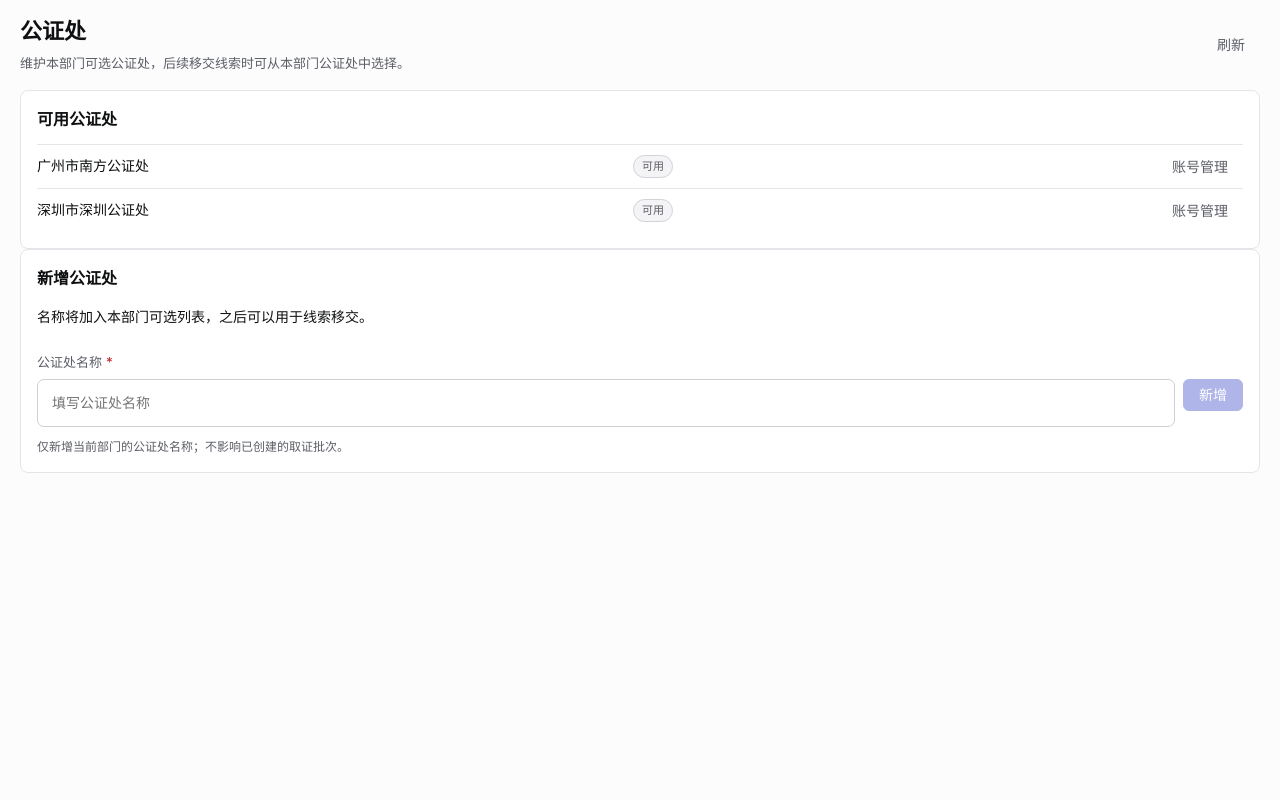
Test: NotaryOfficesPage › creates a bound account and lets administrators disable it
Click the button with test id "office-accounts-office-1" at [1200, 167], box x1=1157 y1=151 x2=1243 y2=183
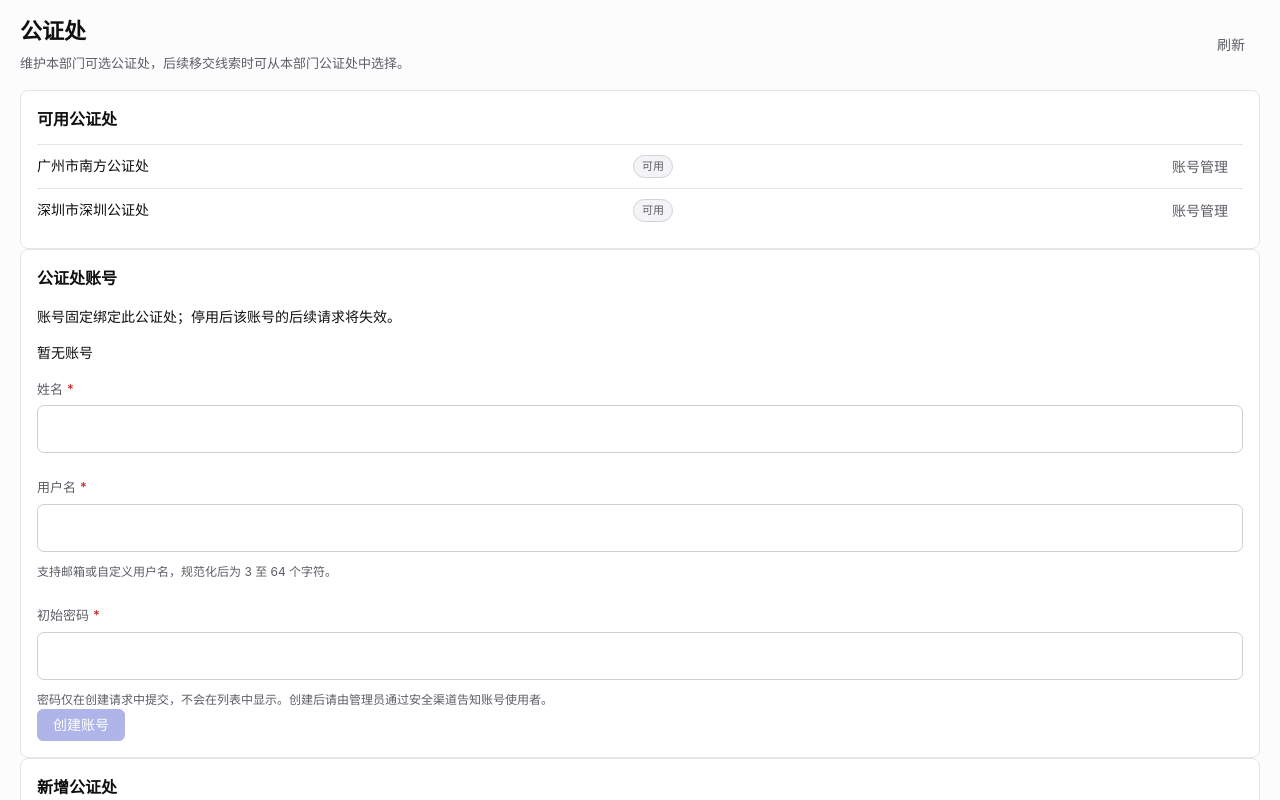
Type "办理员" into the field with test id "notary-account-display-name" at [640, 429], box x1=37 y1=405 x2=1243 y2=453
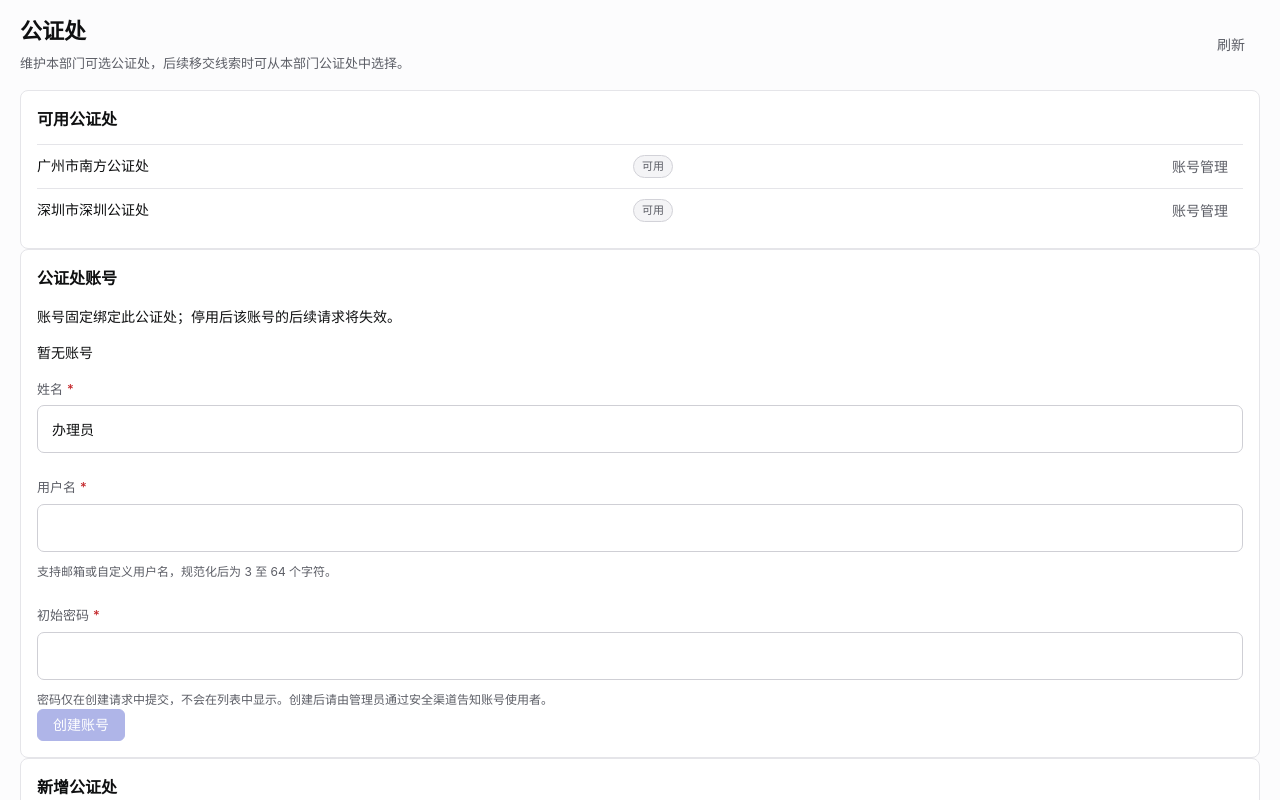
Type "office.user" into the field with test id "notary-account-username" at [640, 528], box x1=37 y1=504 x2=1243 y2=552
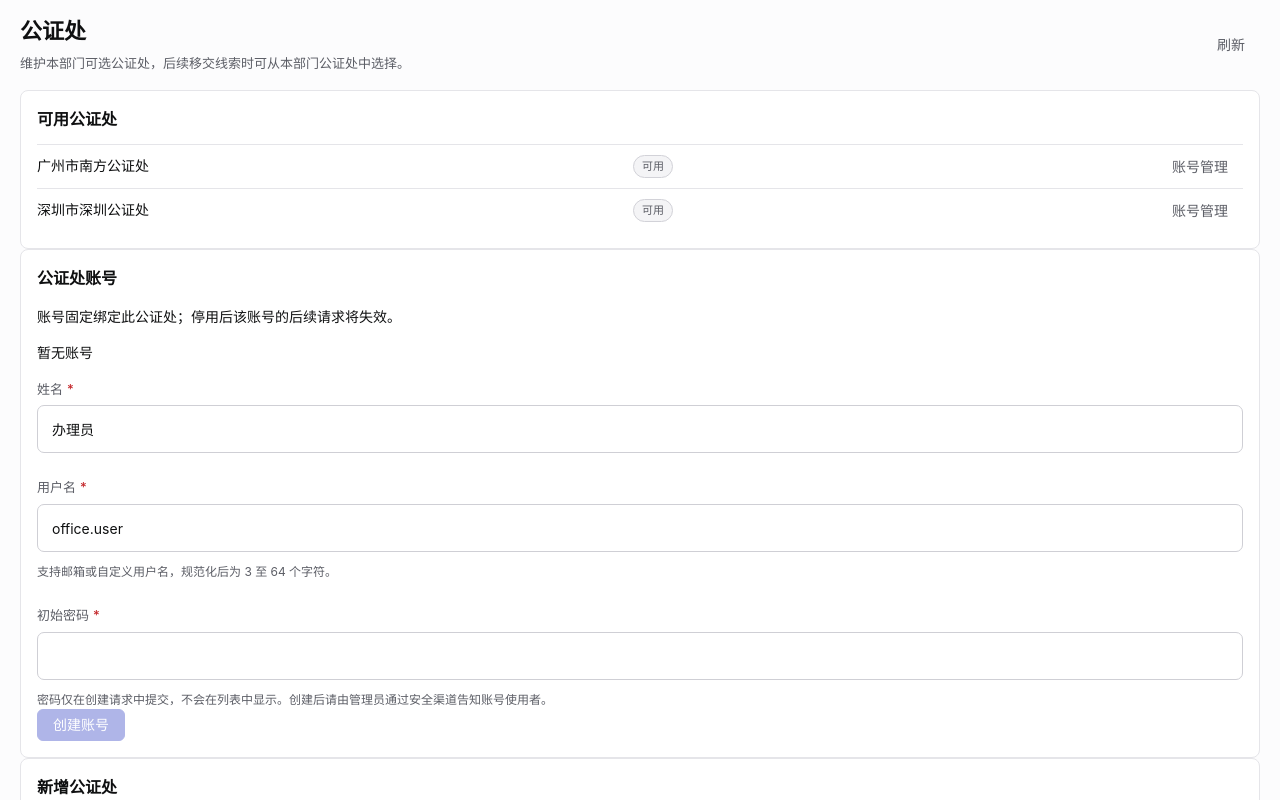
Type "correct horse battery staple" into the password field with test id "notary-account-password" at [640, 656], box x1=37 y1=632 x2=1243 y2=680
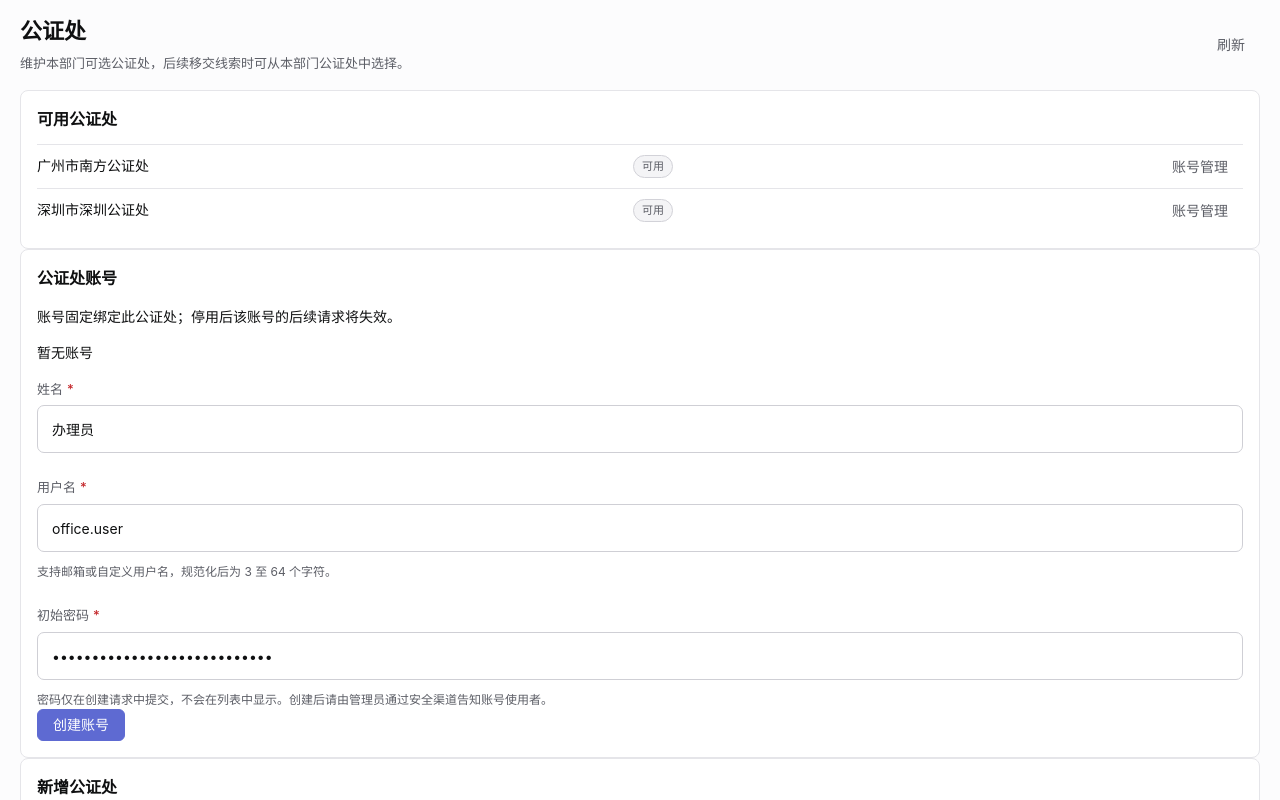
Submit the form with test id "notary-office-account-create", box x1=37 y1=379 x2=1243 y2=741
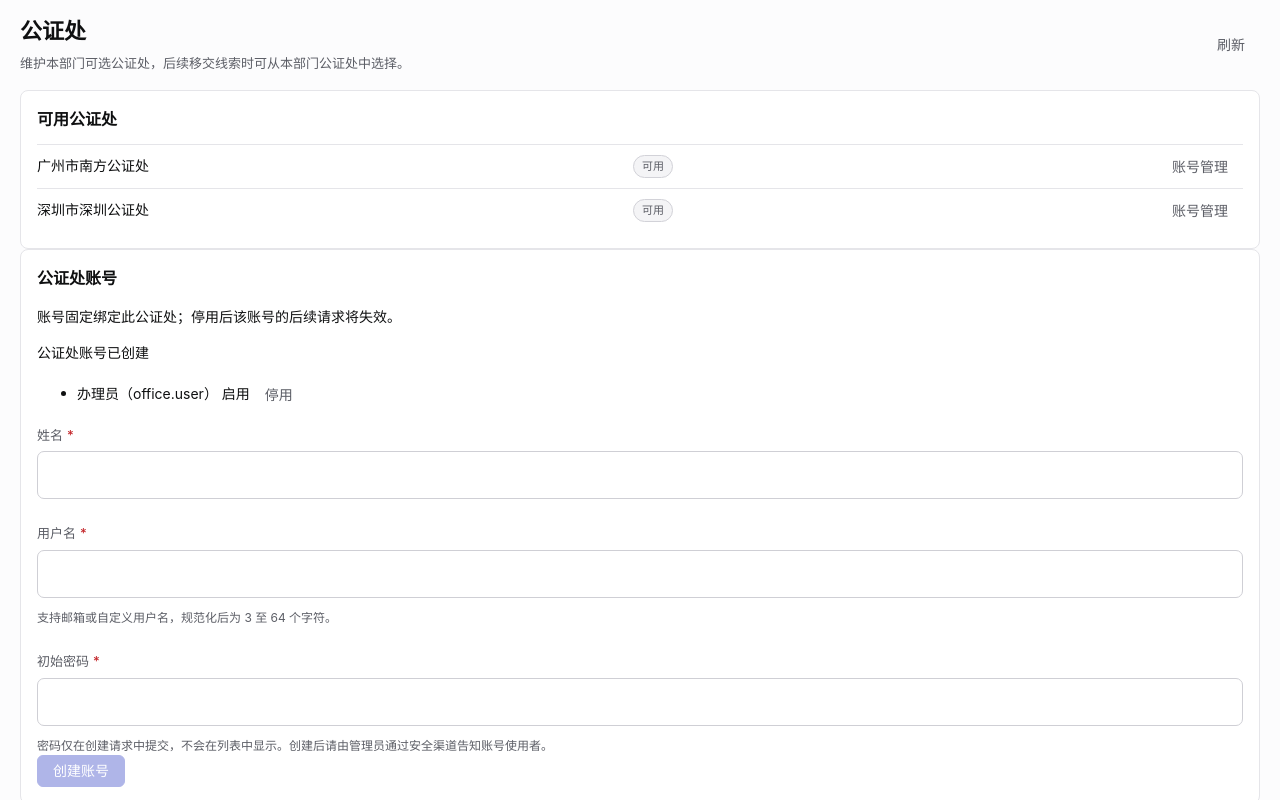
Now the text "公证处账号已创建" is shown, box x1=37 y1=344 x2=149 y2=361
Click the button "停用" at [279, 395], box x1=250 y1=379 x2=308 y2=411
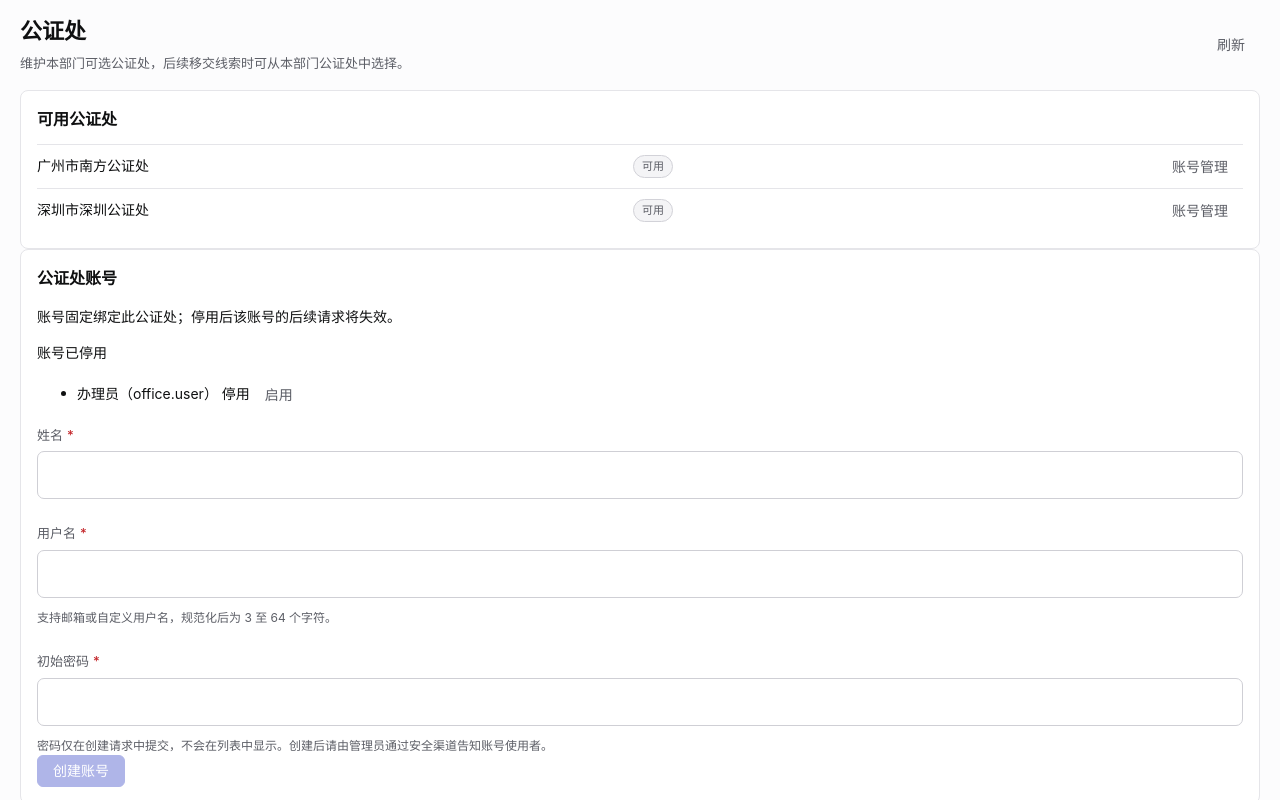
Now the text "账号已停用" is shown, box x1=37 y1=344 x2=107 y2=361
